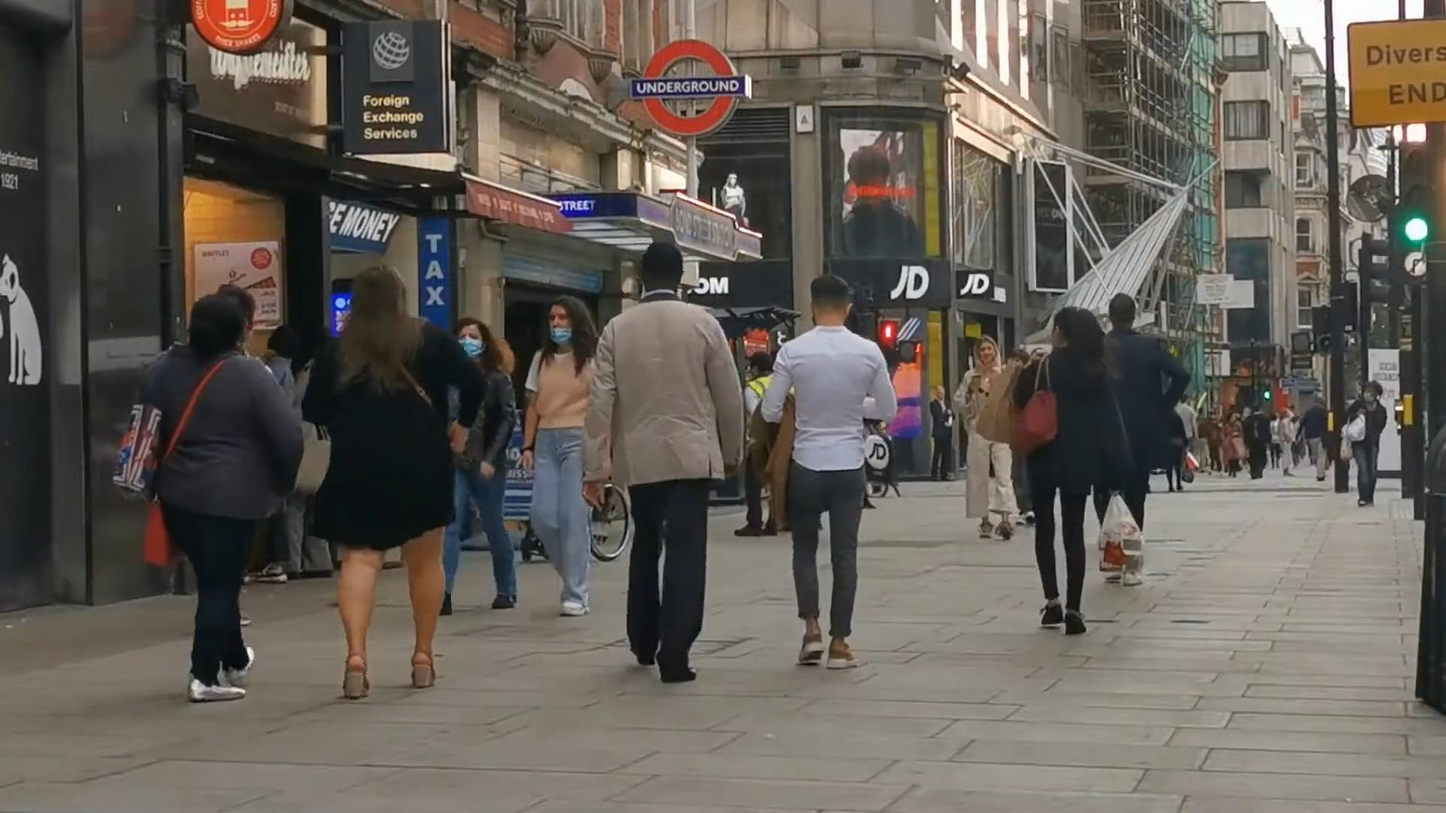no-helmet: (351, 264, 408, 324), (188, 293, 249, 349), (546, 295, 596, 349), (1051, 306, 1103, 348), (811, 275, 853, 326), (452, 317, 498, 360), (642, 242, 682, 291), (1109, 293, 1136, 329), (972, 336, 1001, 369)
